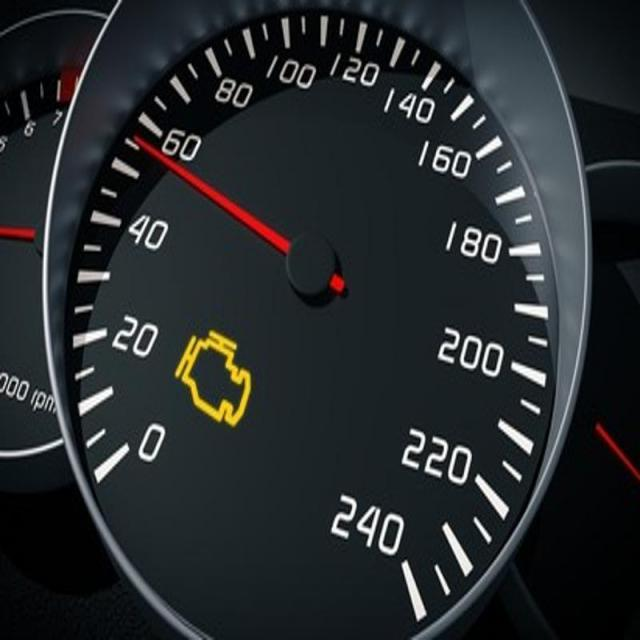EngineWarning: (172, 326, 251, 428)
